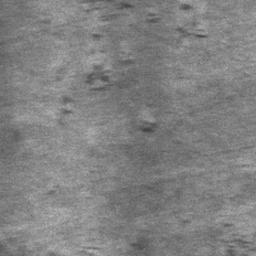Rolled in scale: (85, 65, 108, 92), (176, 22, 208, 39), (225, 239, 256, 254), (89, 0, 133, 10), (62, 97, 73, 115), (139, 123, 158, 133), (147, 13, 159, 24), (86, 247, 98, 256), (182, 4, 193, 11), (121, 60, 134, 65)
